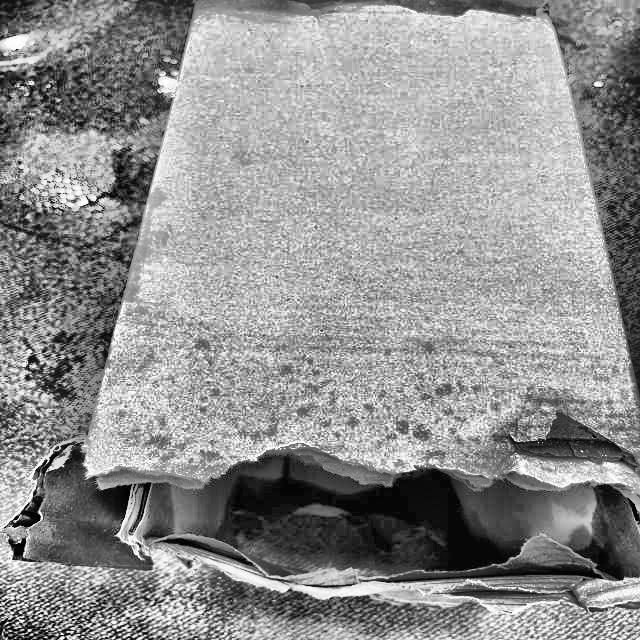box: (1, 0, 639, 620)
hole: (22, 450, 640, 597)
